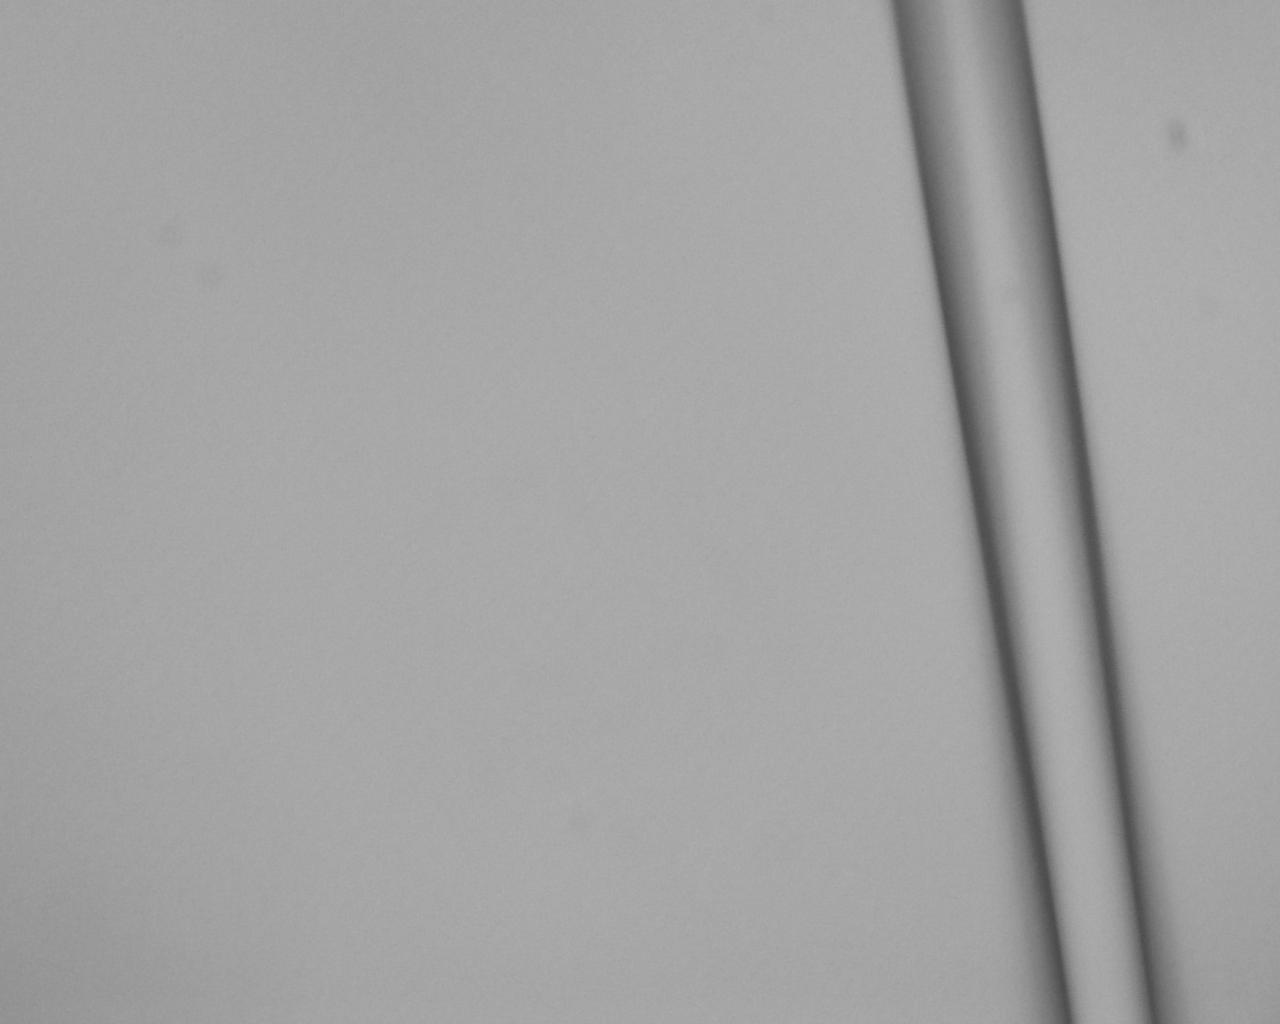fiber: (152, 512, 204, 1024), (487, 0, 536, 512)
